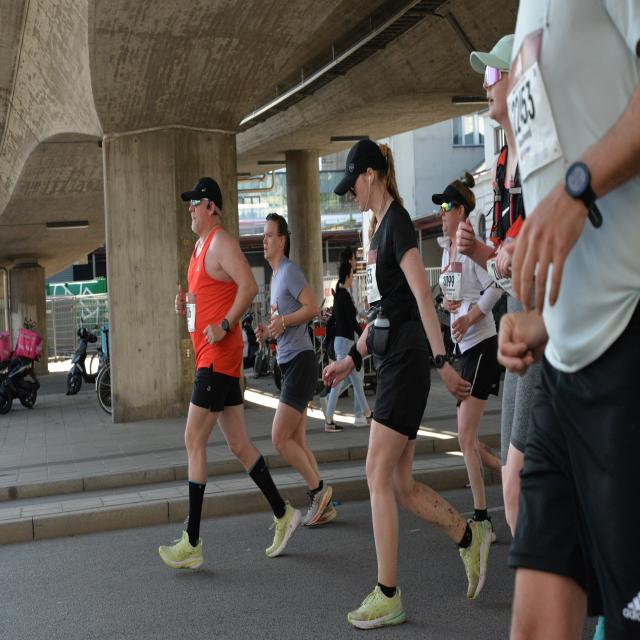runner-detect: (327, 119, 491, 628), (153, 162, 300, 578), (250, 197, 349, 539)
